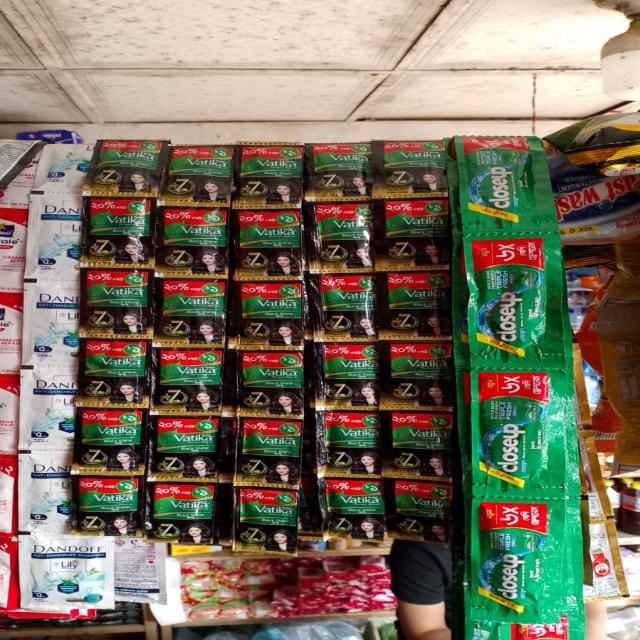non-ubl: (319, 464, 390, 548), (153, 206, 230, 277), (79, 196, 156, 266), (373, 272, 450, 342), (372, 199, 452, 266), (302, 201, 376, 273), (84, 138, 174, 196), (70, 471, 141, 543), (234, 279, 304, 350), (144, 479, 218, 546), (234, 208, 304, 278), (234, 142, 308, 208), (79, 268, 155, 331), (158, 144, 236, 204), (371, 139, 449, 198), (156, 282, 230, 341), (303, 141, 373, 201), (317, 274, 378, 342), (153, 348, 225, 405), (388, 481, 453, 544), (233, 417, 304, 472), (384, 342, 454, 397), (148, 413, 224, 463), (75, 408, 146, 461), (320, 409, 384, 467), (317, 342, 382, 399), (388, 411, 454, 462), (239, 490, 297, 548), (81, 338, 150, 384), (238, 350, 306, 394)
ubl: (467, 361, 580, 494), (457, 234, 562, 368), (470, 494, 564, 624), (447, 134, 551, 236)
